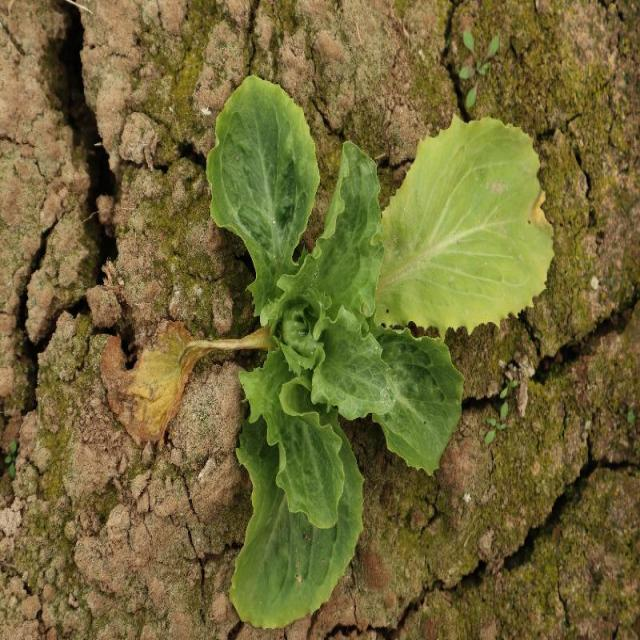crop: (205, 74, 556, 630)
